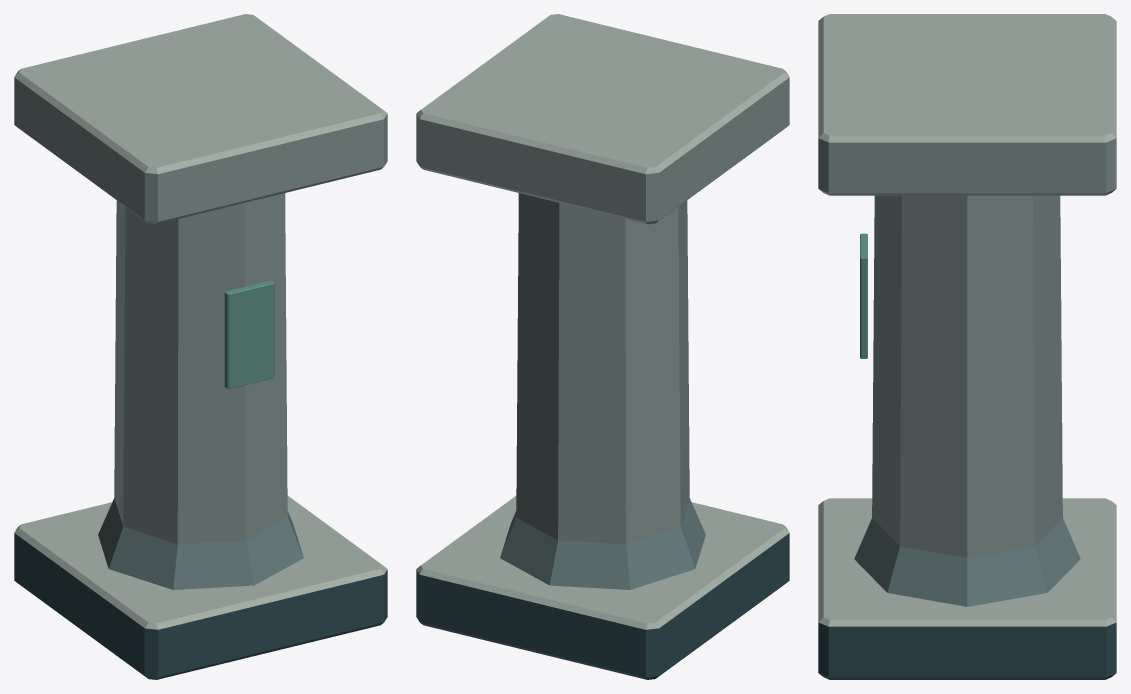
File: pillar-small.glb
The picture shows the model from 3 angles, left to right: view 1: azimuth 30°, elevation 25°; view 2: azimuth 150°, elevation 25°; view 3: azimuth 270°, elevation 25°; orthographic projection. The views are drawn at different scales.
Visible parts, largest first — view 1: pillar-small__body; view 2: pillar-small__body; view 3: pillar-small__body.
Part boxes in pixels (left/top/right/bottom): pillar-small__body: left=14, top=14, right=387, bottom=679; pillar-small__body: left=416, top=14, right=789, bottom=679; pillar-small__body: left=818, top=14, right=1116, bottom=679.
Bounding box in the file's own units: 0.72 × 1.45 × 0.72.
